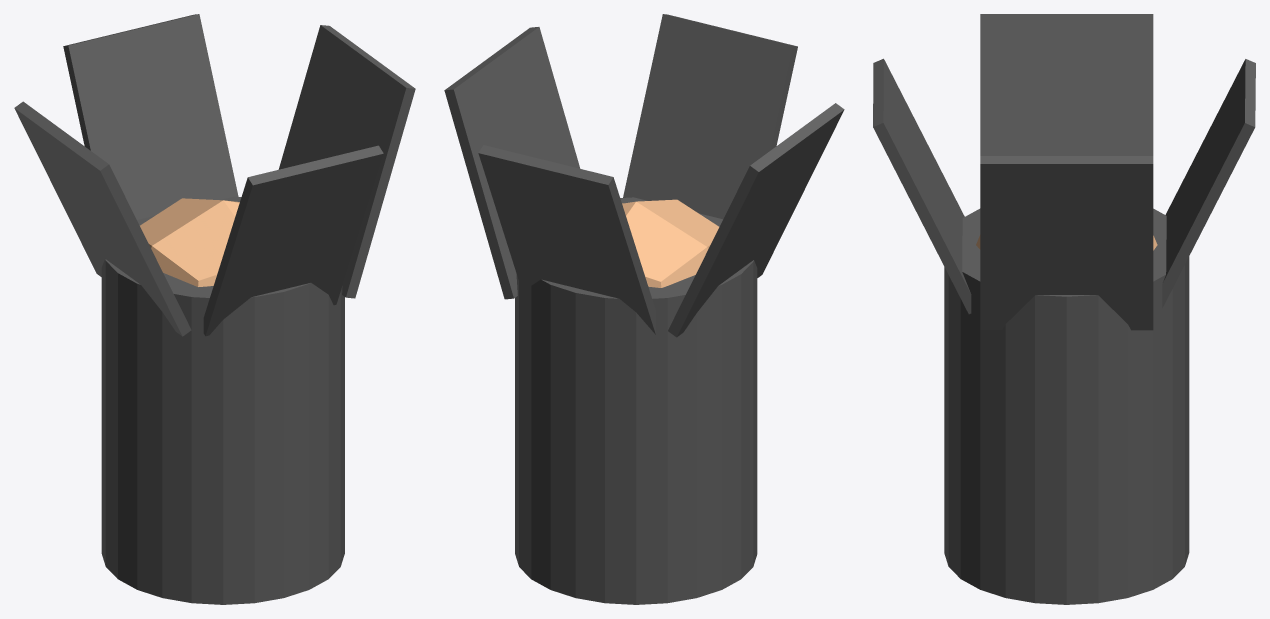
The model's file is spotlight.glb.
3 renders of one model, left to right at view 1: azimuth 30°, elevation 25°; view 2: azimuth 150°, elevation 25°; view 3: azimuth 270°, elevation 25°, orthographic.
Parts seen in each view (by area): view 1: Cylinder, Cube.003, Cube.004, Cube.001, Cube.002, Cube; view 2: Cylinder, Cube.004, Cube.003, Cube.001, Cube.002, Cube; view 3: Cylinder, Cube.001, Cube.002, Cube.004, Cube.003.
Part boxes in pixels (x1,y1,x2,y2): Cylinder: [101, 196, 344, 604]; Cube.003: [63, 14, 238, 219]; Cube.004: [203, 145, 383, 336]; Cube.001: [278, 25, 415, 298]; Cube.002: [14, 101, 191, 336]; Cube: [140, 198, 239, 286]; Cylinder: [515, 197, 757, 604]; Cube.004: [623, 14, 797, 219]; Cube.003: [478, 145, 655, 334]; Cube.001: [444, 27, 580, 299]; Cube.002: [668, 103, 844, 337]; Cube: [622, 199, 719, 287]; Cylinder: [944, 208, 1189, 604]; Cube.001: [980, 156, 1153, 330]; Cube.002: [980, 14, 1153, 155]; Cube.004: [873, 58, 971, 314]; Cube.003: [1162, 59, 1255, 307].
Size of the model in its own units: 2.7 by 3.78 by 2.82.
